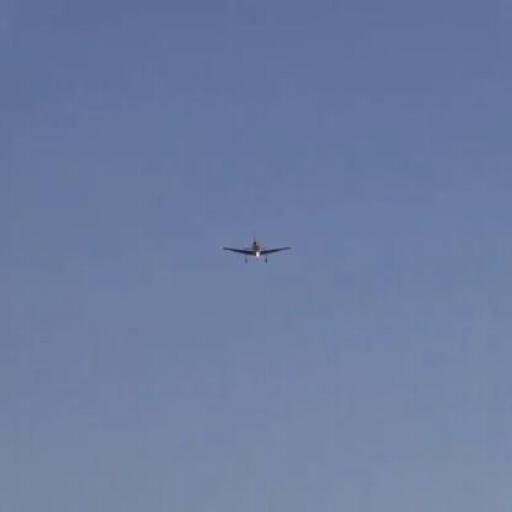aircraft: (221, 234, 293, 264)
